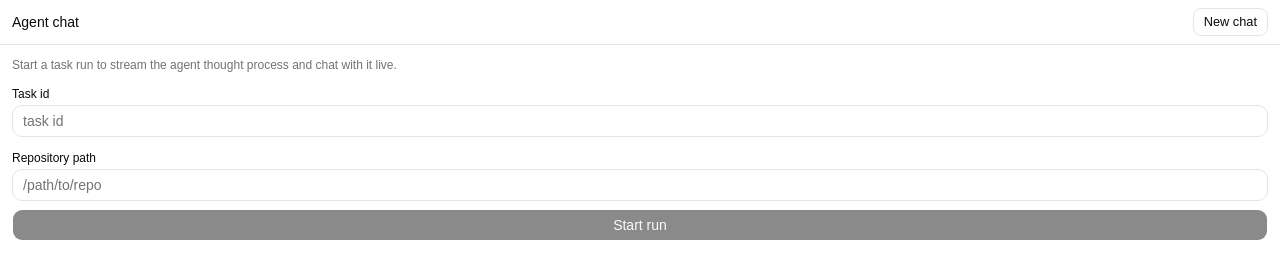
Test case: live chat pane (#26) › starts a run session and shows the streamed transcript
Type "t1" into the field labelled "Task id" at (640, 121), box [12,105,1268,137]
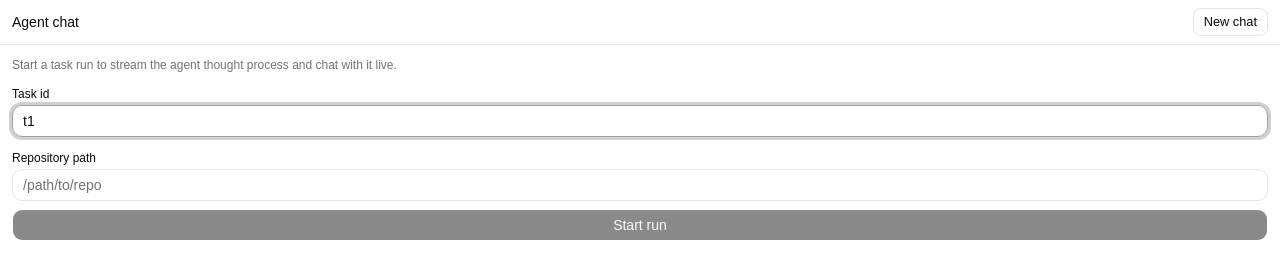
Type "/tmp/repo" into the field labelled "Repository path" at (640, 185), box [12,169,1268,201]
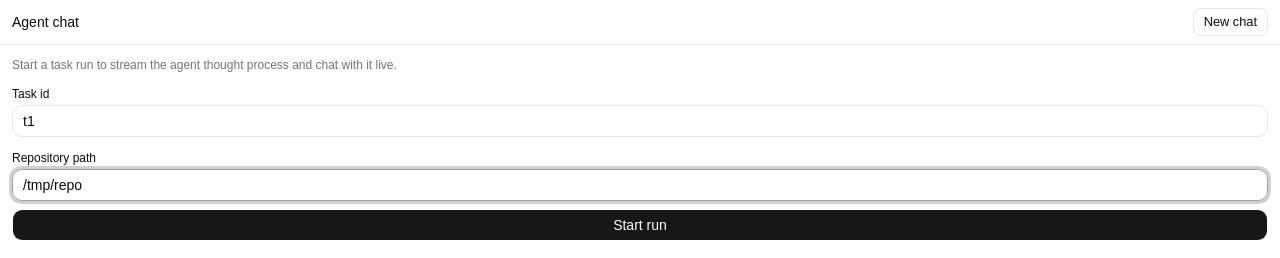
Click the button "Start run" at (640, 225), box [12,209,1268,241]
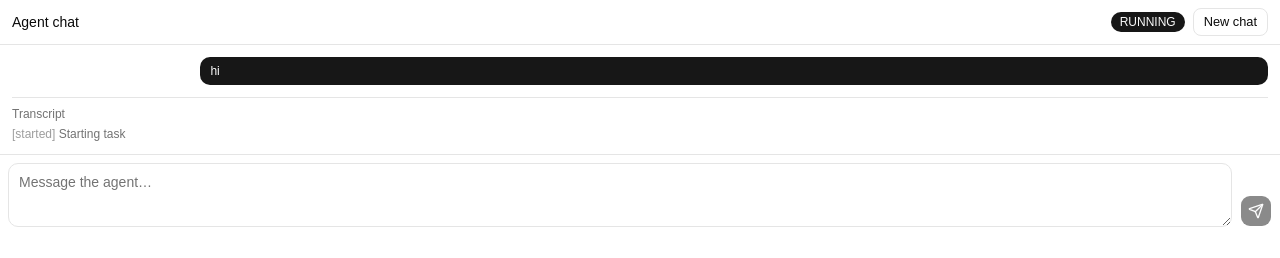
Check: the text "hi" is shown, box [200,57,1268,85]
Check: the list item "[started] Starting task" is shown, box [12,127,125,141]
